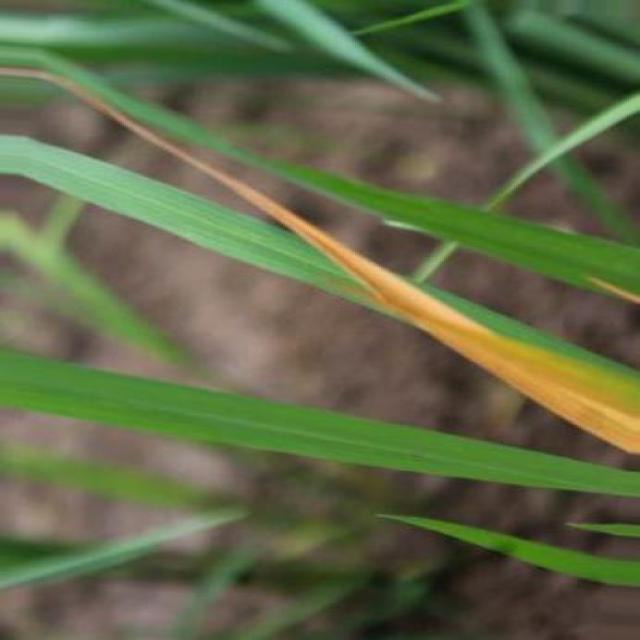Rice Tungro: (69, 87, 638, 452)
